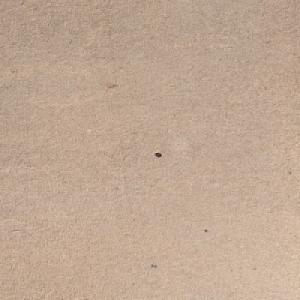Nut: (154, 152, 160, 156)
